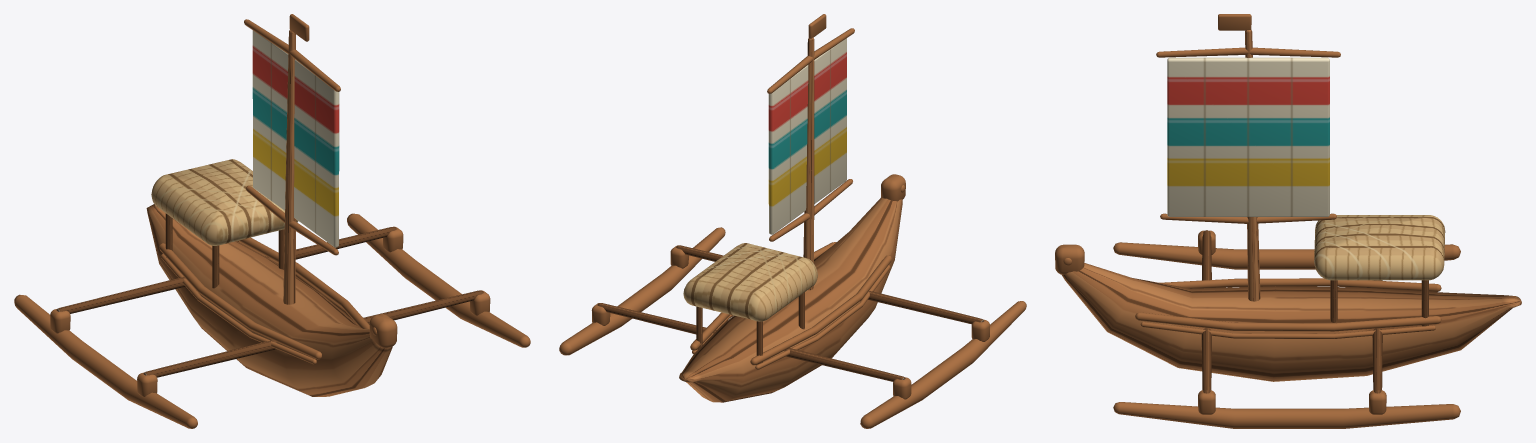
File: lepa.glb
The picture shows the model from 3 angles, left to right: view 1: azimuth 30°, elevation 25°; view 2: azimuth 150°, elevation 25°; view 3: azimuth 270°, elevation 25°; orthographic projection. The views are drawn at different scales.
Parts seen in each view (by area): view 1: hull, rig; view 2: hull, rig; view 3: hull, rig.
Part boxes in pixels (x1=…): hull: x1=14, y1=159, x2=530, y2=428; rig: x1=244, y1=14, x2=340, y2=304; hull: x1=559, y1=174, x2=1026, y2=428; rig: x1=767, y1=14, x2=854, y2=290; hull: x1=1055, y1=215, x2=1521, y2=428; rig: x1=1156, y1=14, x2=1340, y2=301.
Bounding box in the file's own units: 2 × 2.01 × 2.35.
1 material, 1 textured.
